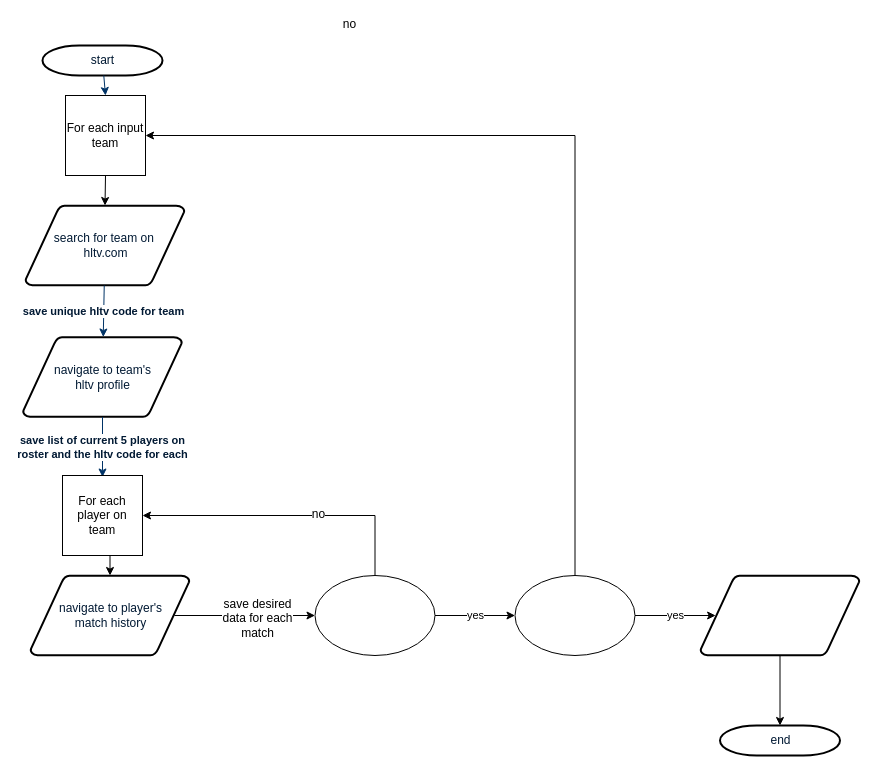
Some shapes in this 878 by 774 pixel diagram are drawn without their labels. The shapes that lost their labels are listed below. From the top down, each one's centre as x and y in pixels, then its label:
[374,615]: last player on team?
[574,615]: last team in input list?
[779,615]: write saved data to csv
